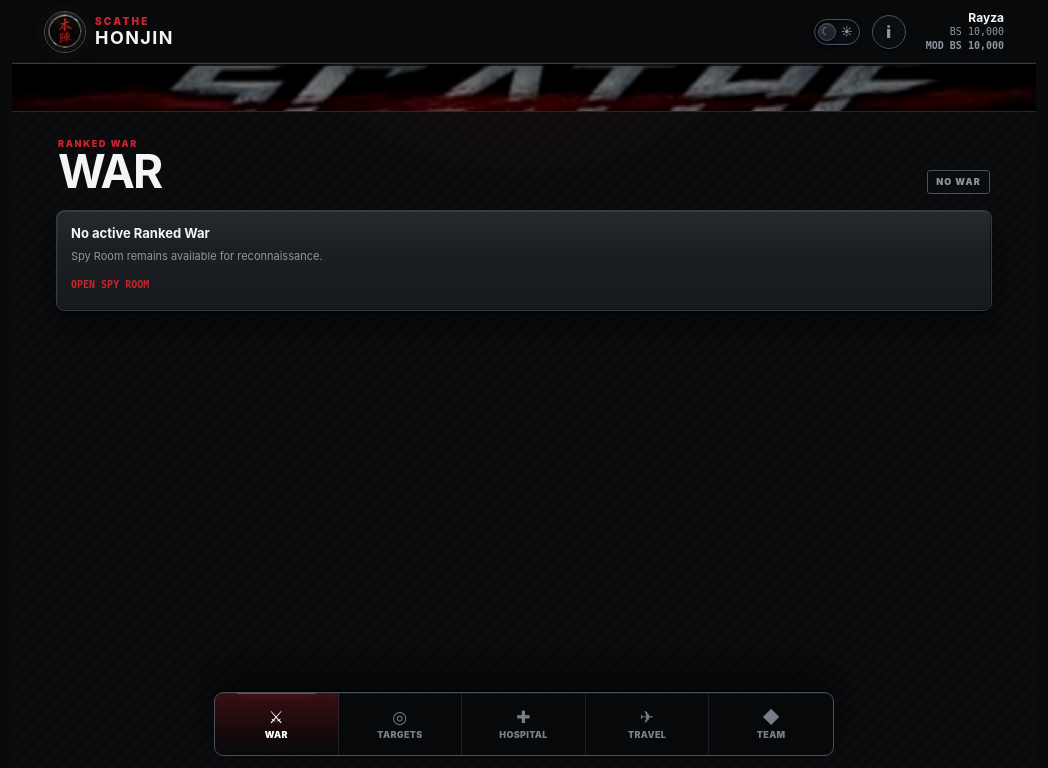
Scenario: live Spy Room shell › shows ambiguous player search results and loads explicit player recon with LIFE
Click the button "OPEN SPY ROOM". click: (113, 285)
box: [71,274,155,296]
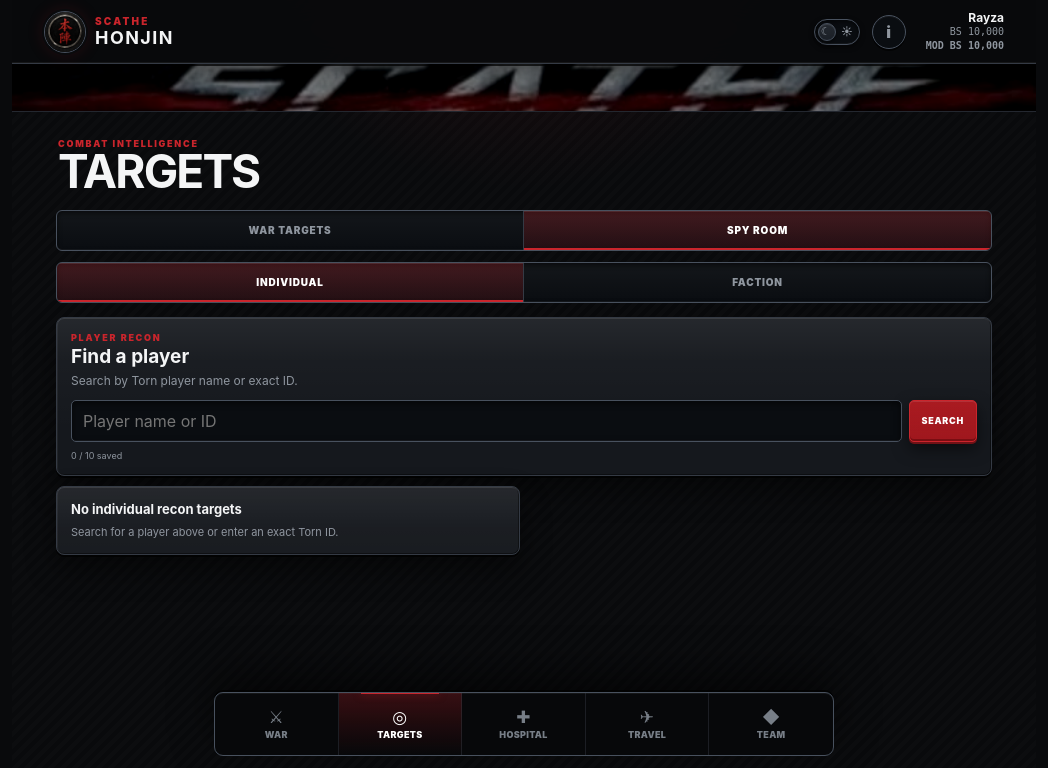
Type "Recon" into the search field labelled "Player name or ID". click: (486, 421)
box: [71,400,902,442]
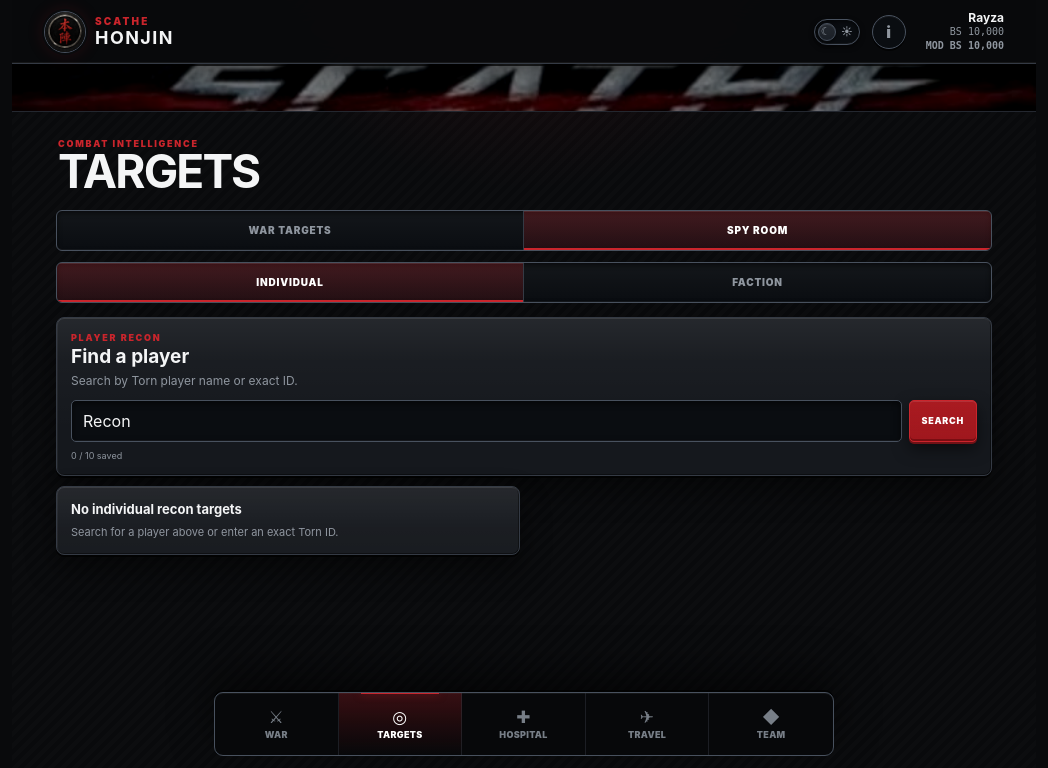
Submit the form named "Player name or ID", box [71,400,977,442]
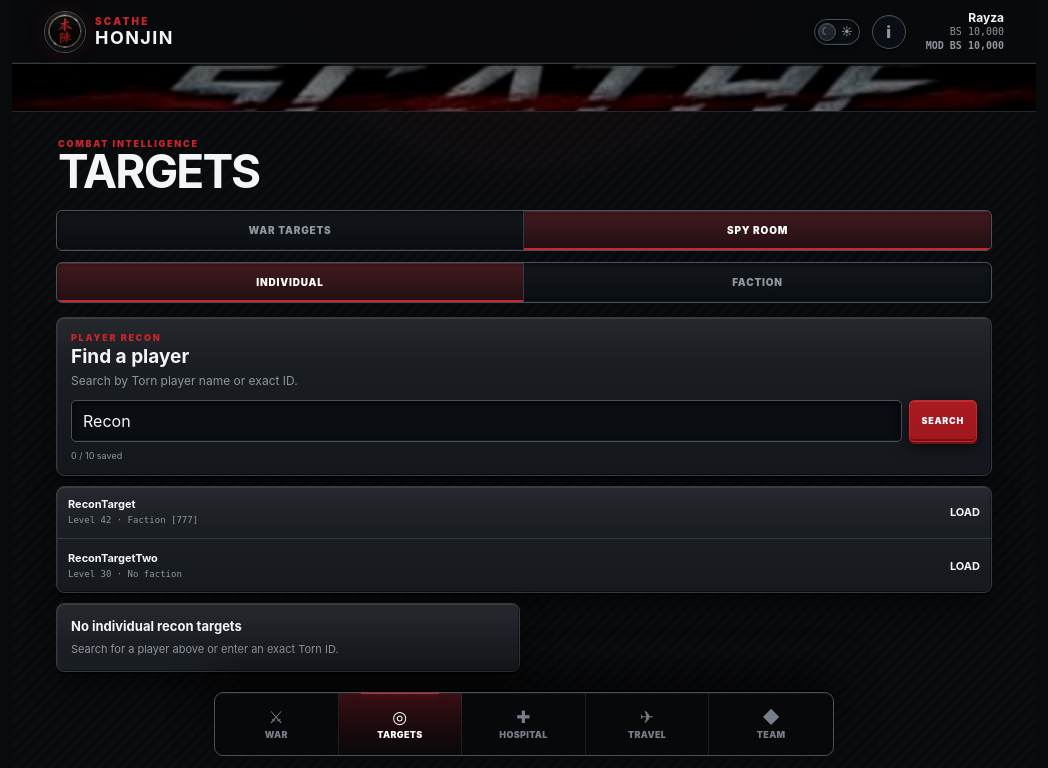
Result: the text "ReconTarget" is shown at [68,497,136,511]
Result: the text "ReconTargetTwo" is shown at [68,551,158,565]
Click the button with aria-label "ReconTarget · Level 42". click: (102, 504)
box: [57,487,991,539]
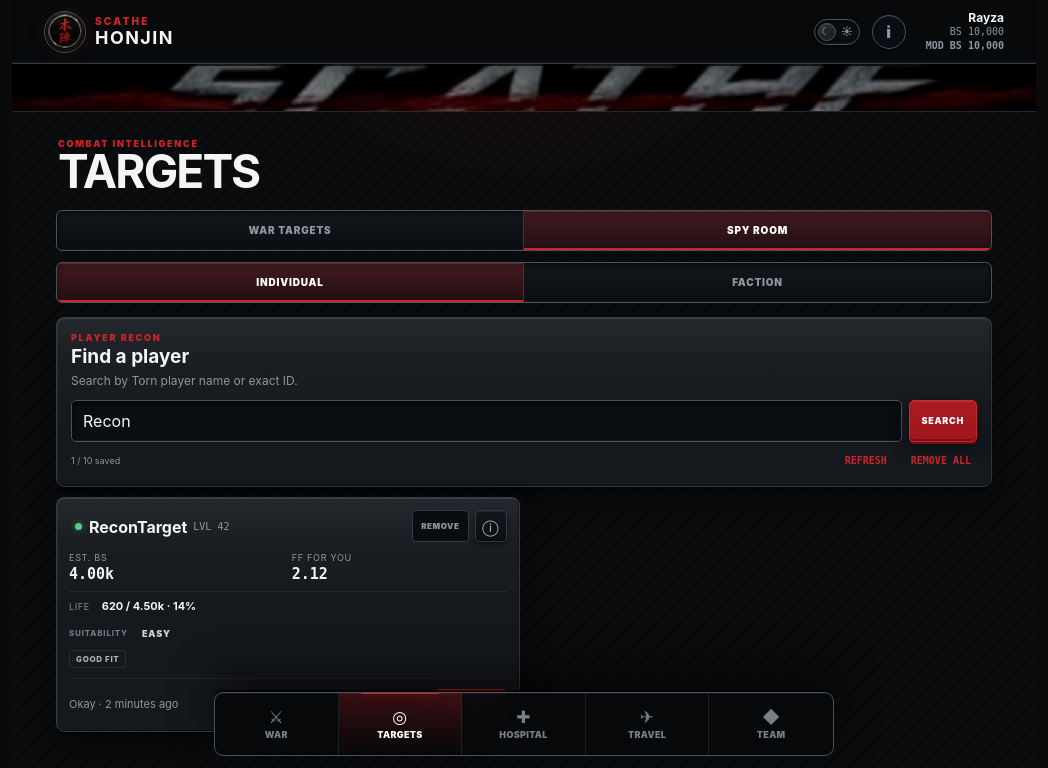
Result: the text "ReconTarget" is shown at [69,517,187,537]
Result: the text "620 / 4.50k · 14%" is shown at [102,599,196,613]
Result: the text "LIFE" is shown at [69,601,90,612]
